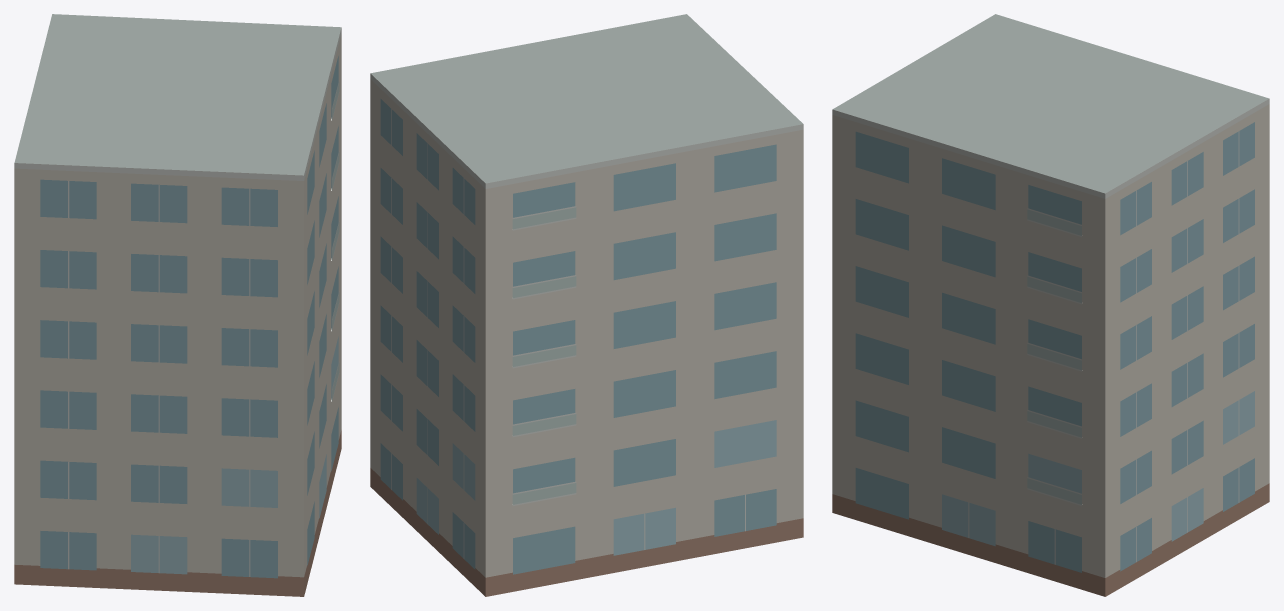
Rendered from survey-upis-32950117.glb.
3 views of the same model, side by side, from view 1: azimuth 30°, elevation 25°; view 2: azimuth 150°, elevation 25°; view 3: azimuth 270°, elevation 25° (orthographic). The views are drawn at different scales.
Parts seen in each view (by area): view 1: survey-upis-32950117.tmp; view 2: survey-upis-32950117.tmp; view 3: survey-upis-32950117.tmp.
Boxes of the visible parts, left/top/right/bottom form: survey-upis-32950117.tmp: left=14, top=14, right=341, bottom=596; survey-upis-32950117.tmp: left=370, top=14, right=803, bottom=596; survey-upis-32950117.tmp: left=832, top=14, right=1269, bottom=596.
Size of the model in its own units: 17.48 by 18.3 by 17.99.
